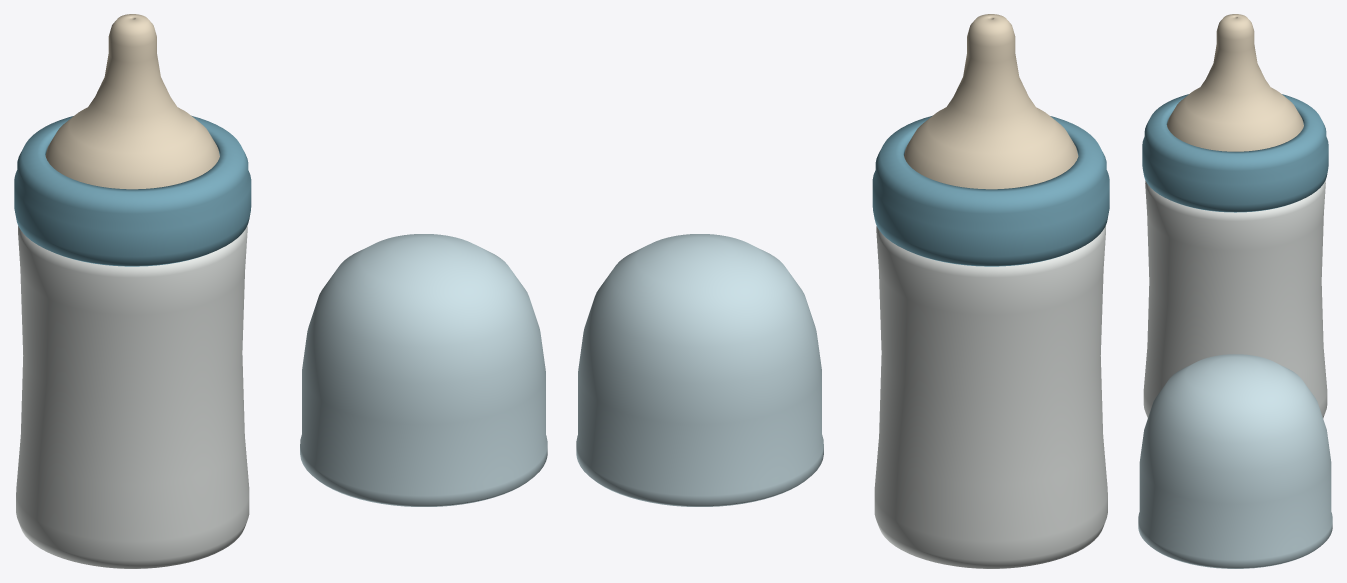
The picture shows the model from 3 angles, left to right: view 1: azimuth 30°, elevation 25°; view 2: azimuth 150°, elevation 25°; view 3: azimuth 270°, elevation 25°; orthographic projection. The views are drawn at different scales.
Parts seen in each view (by area): view 1: Bottle - hollow wall neck and closed bottom, Protective hood - closed dome open underside, Collar - open annular retainer, Nipple - hollow shoulder flange and open tip; view 2: Bottle - hollow wall neck and closed bottom, Protective hood - closed dome open underside, Collar - open annular retainer, Nipple - hollow shoulder flange and open tip; view 3: Protective hood - closed dome open underside, Bottle - hollow wall neck and closed bottom, Collar - open annular retainer, Nipple - hollow shoulder flange and open tip.
Boxes of the visible parts, bbox=[...] form: Bottle - hollow wall neck and closed bottom: bbox=[16, 226, 249, 568]; Protective hood - closed dome open underside: bbox=[300, 234, 547, 506]; Collar - open annular retainer: bbox=[14, 115, 251, 266]; Nipple - hollow shoulder flange and open tip: bbox=[45, 14, 219, 189]; Bottle - hollow wall neck and closed bottom: bbox=[874, 226, 1107, 568]; Protective hood - closed dome open underside: bbox=[576, 234, 823, 506]; Collar - open annular retainer: bbox=[872, 115, 1109, 266]; Nipple - hollow shoulder flange and open tip: bbox=[904, 14, 1078, 189]; Protective hood - closed dome open underside: bbox=[1138, 354, 1332, 568]; Bottle - hollow wall neck and closed bottom: bbox=[1143, 181, 1327, 418]; Collar - open annular retainer: bbox=[1142, 94, 1328, 212]; Nipple - hollow shoulder flange and open tip: bbox=[1167, 14, 1303, 151].
Bounding box in the file's own units: 0.1635 × 0.1588 × 0.07.
